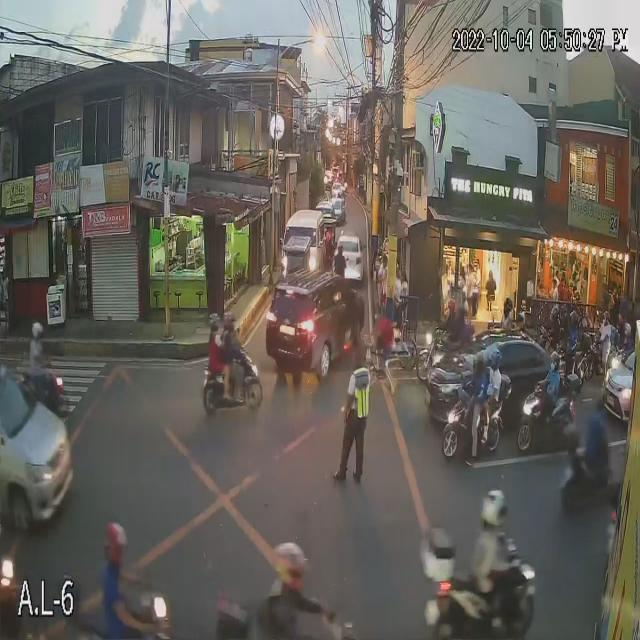helmet: (271, 542, 310, 602), (476, 488, 516, 535), (106, 517, 129, 571), (453, 300, 476, 327), (544, 350, 565, 376), (439, 297, 459, 323), (225, 306, 243, 333), (467, 357, 489, 379), (205, 307, 222, 335), (29, 321, 48, 345), (330, 240, 346, 260), (500, 293, 512, 319), (570, 308, 583, 331), (548, 308, 562, 329), (618, 324, 632, 344), (488, 349, 500, 371), (518, 305, 528, 331), (559, 301, 571, 322), (600, 311, 613, 329)
motorcycle: (418, 543, 544, 640), (58, 568, 168, 640), (432, 389, 510, 474), (506, 391, 580, 469), (543, 436, 621, 509), (222, 601, 365, 640), (201, 350, 260, 424), (15, 365, 76, 423), (416, 330, 455, 387)
rider: (252, 522, 320, 627), (470, 484, 525, 593), (92, 513, 134, 624), (581, 391, 616, 479), (538, 347, 571, 418), (225, 303, 250, 383), (25, 314, 52, 383), (204, 307, 224, 396), (466, 353, 490, 427), (483, 346, 504, 414), (493, 295, 520, 347), (433, 298, 459, 350), (564, 308, 589, 358), (332, 241, 352, 295), (541, 301, 564, 347), (594, 309, 618, 353), (454, 301, 475, 341), (617, 311, 634, 359), (510, 309, 532, 344), (558, 298, 576, 331)
